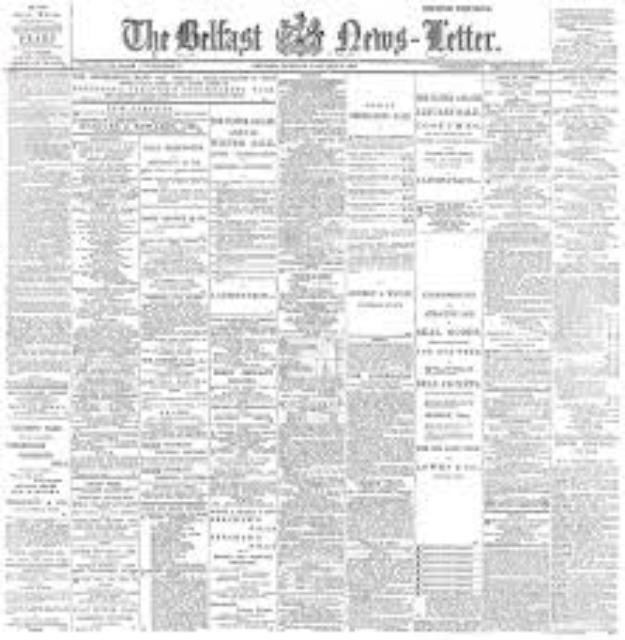cardboard paper: (4, 0, 622, 639)
